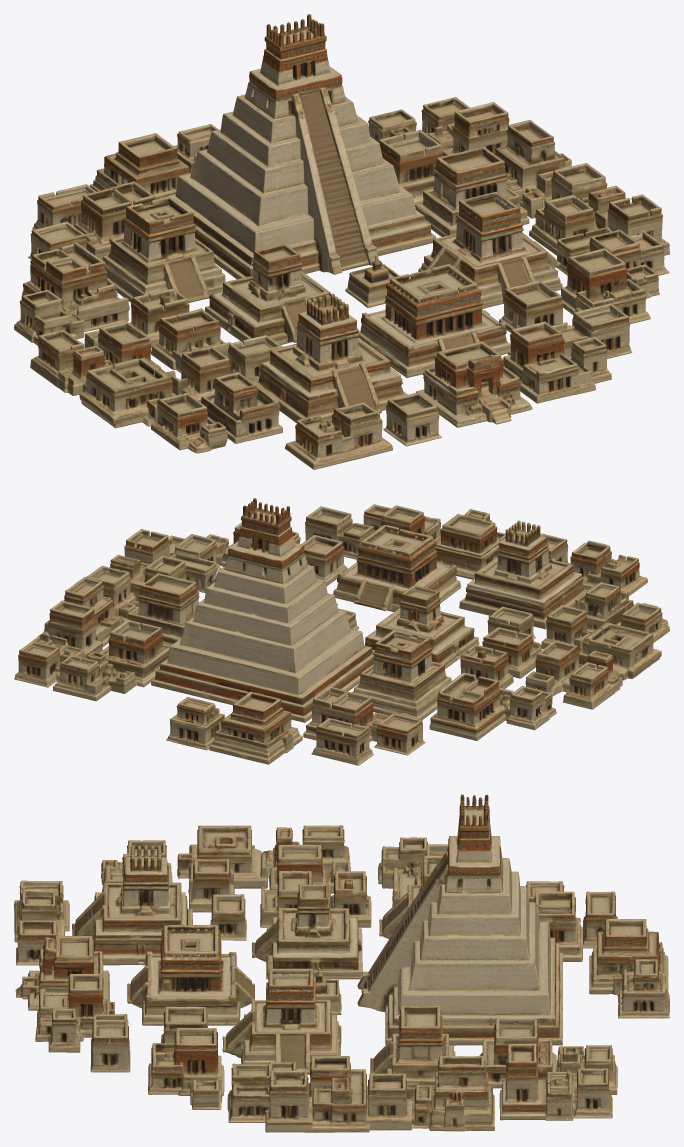
Rendered from Classical City (Mesoamerican).fbx.
3 renders of one model, top to bottom at view 1: azimuth 30°, elevation 25°; view 2: azimuth 150°, elevation 25°; view 3: azimuth 270°, elevation 25°, orthographic. The views are drawn at different scales.
Parts seen in each view (by area): view 1: tripo_node_56f281e5; view 2: tripo_node_56f281e5; view 3: tripo_node_56f281e5.
Boxes of the visible parts, <box> form: tripo_node_56f281e5: <box>14,14,669,469</box>; tripo_node_56f281e5: <box>14,498,669,765</box>; tripo_node_56f281e5: <box>14,794,669,1132</box>.
Bounding box in the file's own units: 1 × 0.3448 × 0.9979.
